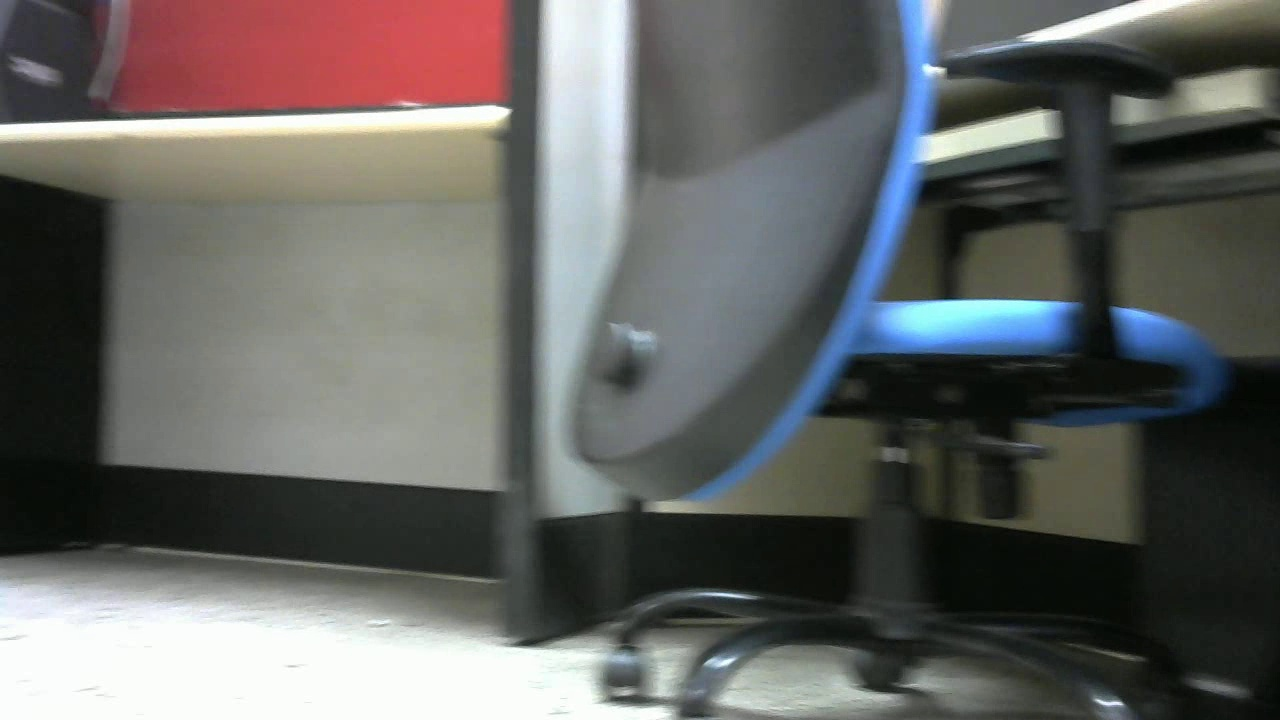chair: (563, 3, 1234, 720)
